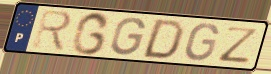D: (139, 18, 187, 61)
G: (70, 11, 112, 57), (109, 16, 147, 57), (183, 22, 221, 62)
R: (31, 8, 74, 53)
Z: (218, 25, 262, 65)
